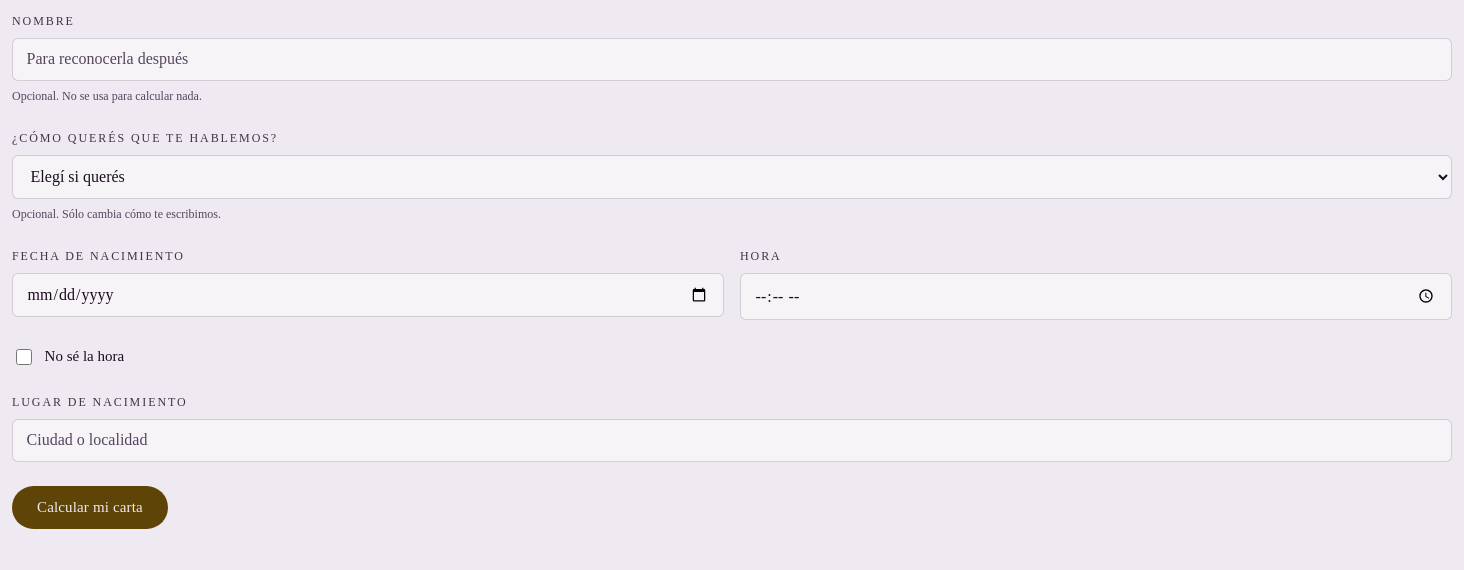
Test: NewChartForm › avisa cuando el lugar no existe
Type "asdfgh" into the field labelled "Lugar de nacimiento" at x=732, y=440, box x1=12 y1=419 x2=1452 y2=462
Wait 400 ms
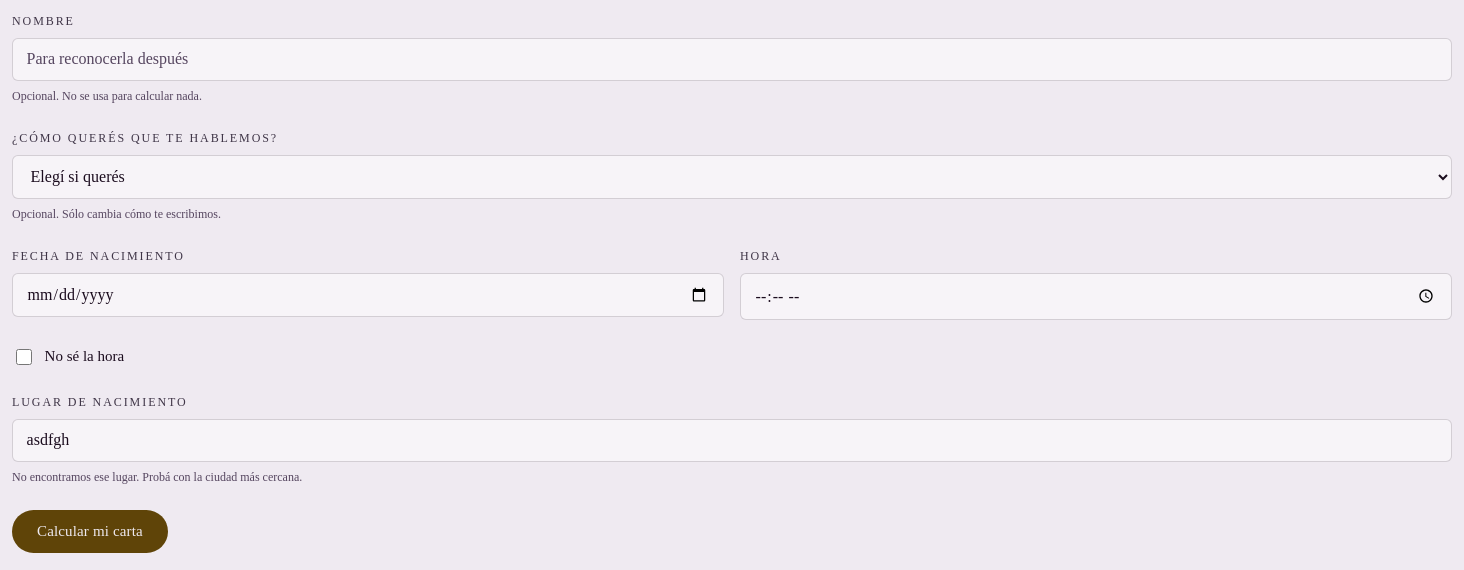
Result: the text "No encontramos ese lugar. Probá con la ciudad más cercana." is shown at x1=12 y1=470 x2=302 y2=484
